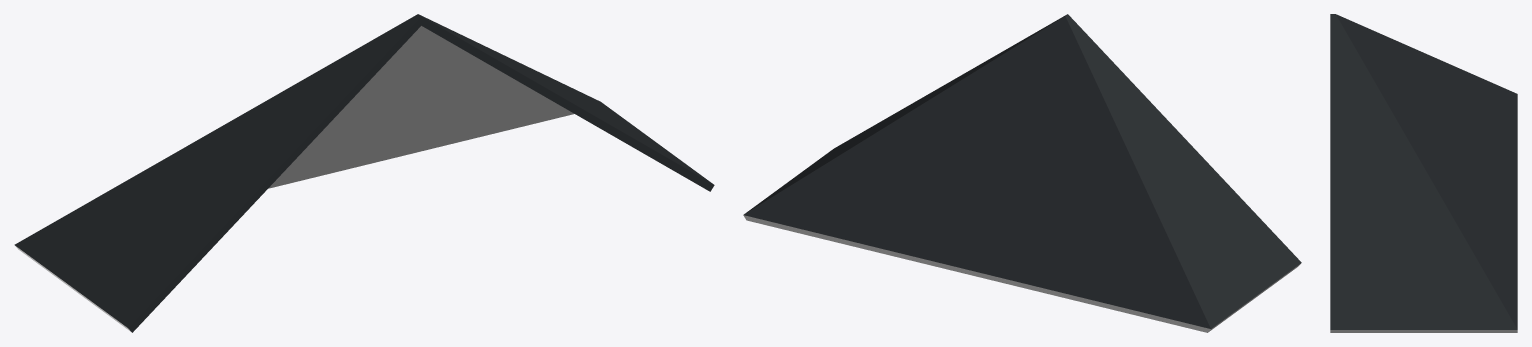
Rendered from Roof2_C1_02.fbx.
3 renders of one model, left to right at view 1: azimuth 30°, elevation 25°; view 2: azimuth 150°, elevation 25°; view 3: azimuth 270°, elevation 25°, orthographic. The views are drawn at different scales.
Parts seen in each view (by area): view 1: Roof2_C1_02; view 2: Roof2_C1_02; view 3: Roof2_C1_02.
Boxes of the visible parts, <box> form: Roof2_C1_02: <box>14,14,714,332</box>; Roof2_C1_02: <box>743,14,1301,332</box>; Roof2_C1_02: <box>1330,14,1517,332</box>.
Bounding box in the file's own units: 833 × 334 × 280.
